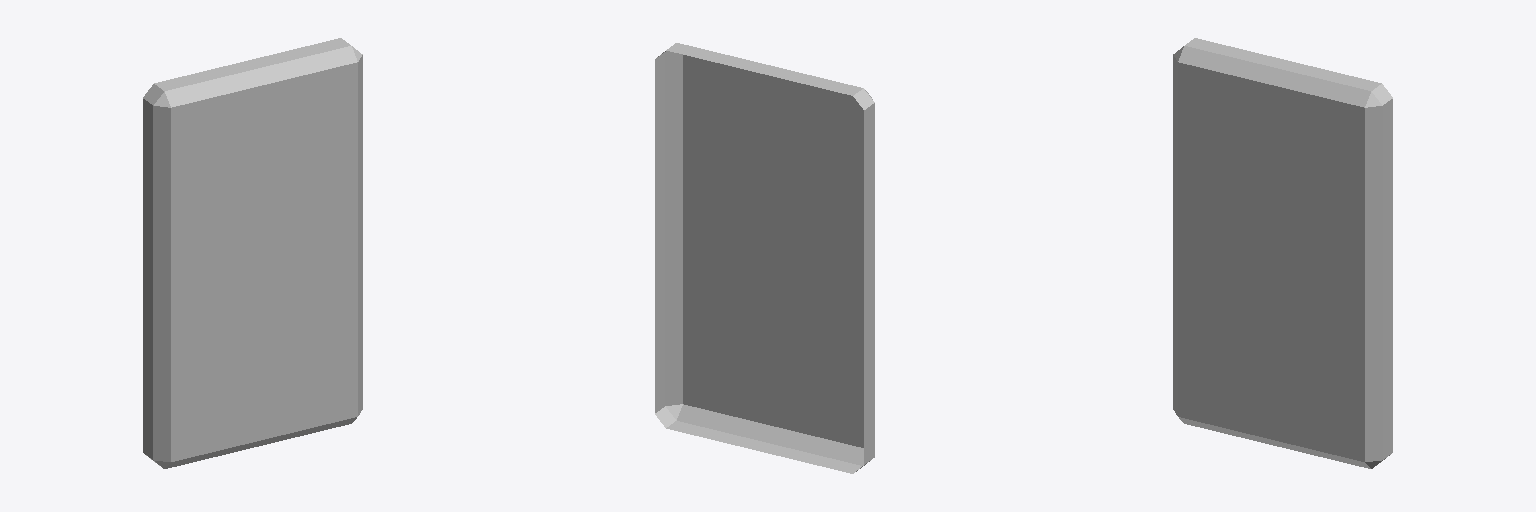
File: ventSimple.obj
3 renders of one model, left to right at view 1: azimuth 30°, elevation 25°; view 2: azimuth 150°, elevation 25°; view 3: azimuth 330°, elevation 25°, orthographic.
Visible parts, largest first — view 1: Object.1; view 2: Object.1; view 3: Object.1.
Part boxes in pixels (bbox=[...]): Object.1: bbox=[143, 38, 362, 468]; Object.1: bbox=[655, 43, 874, 473]; Object.1: bbox=[1173, 38, 1392, 468].
Bounding box in the file's own units: 37.53 × 64.74 × 5.33.